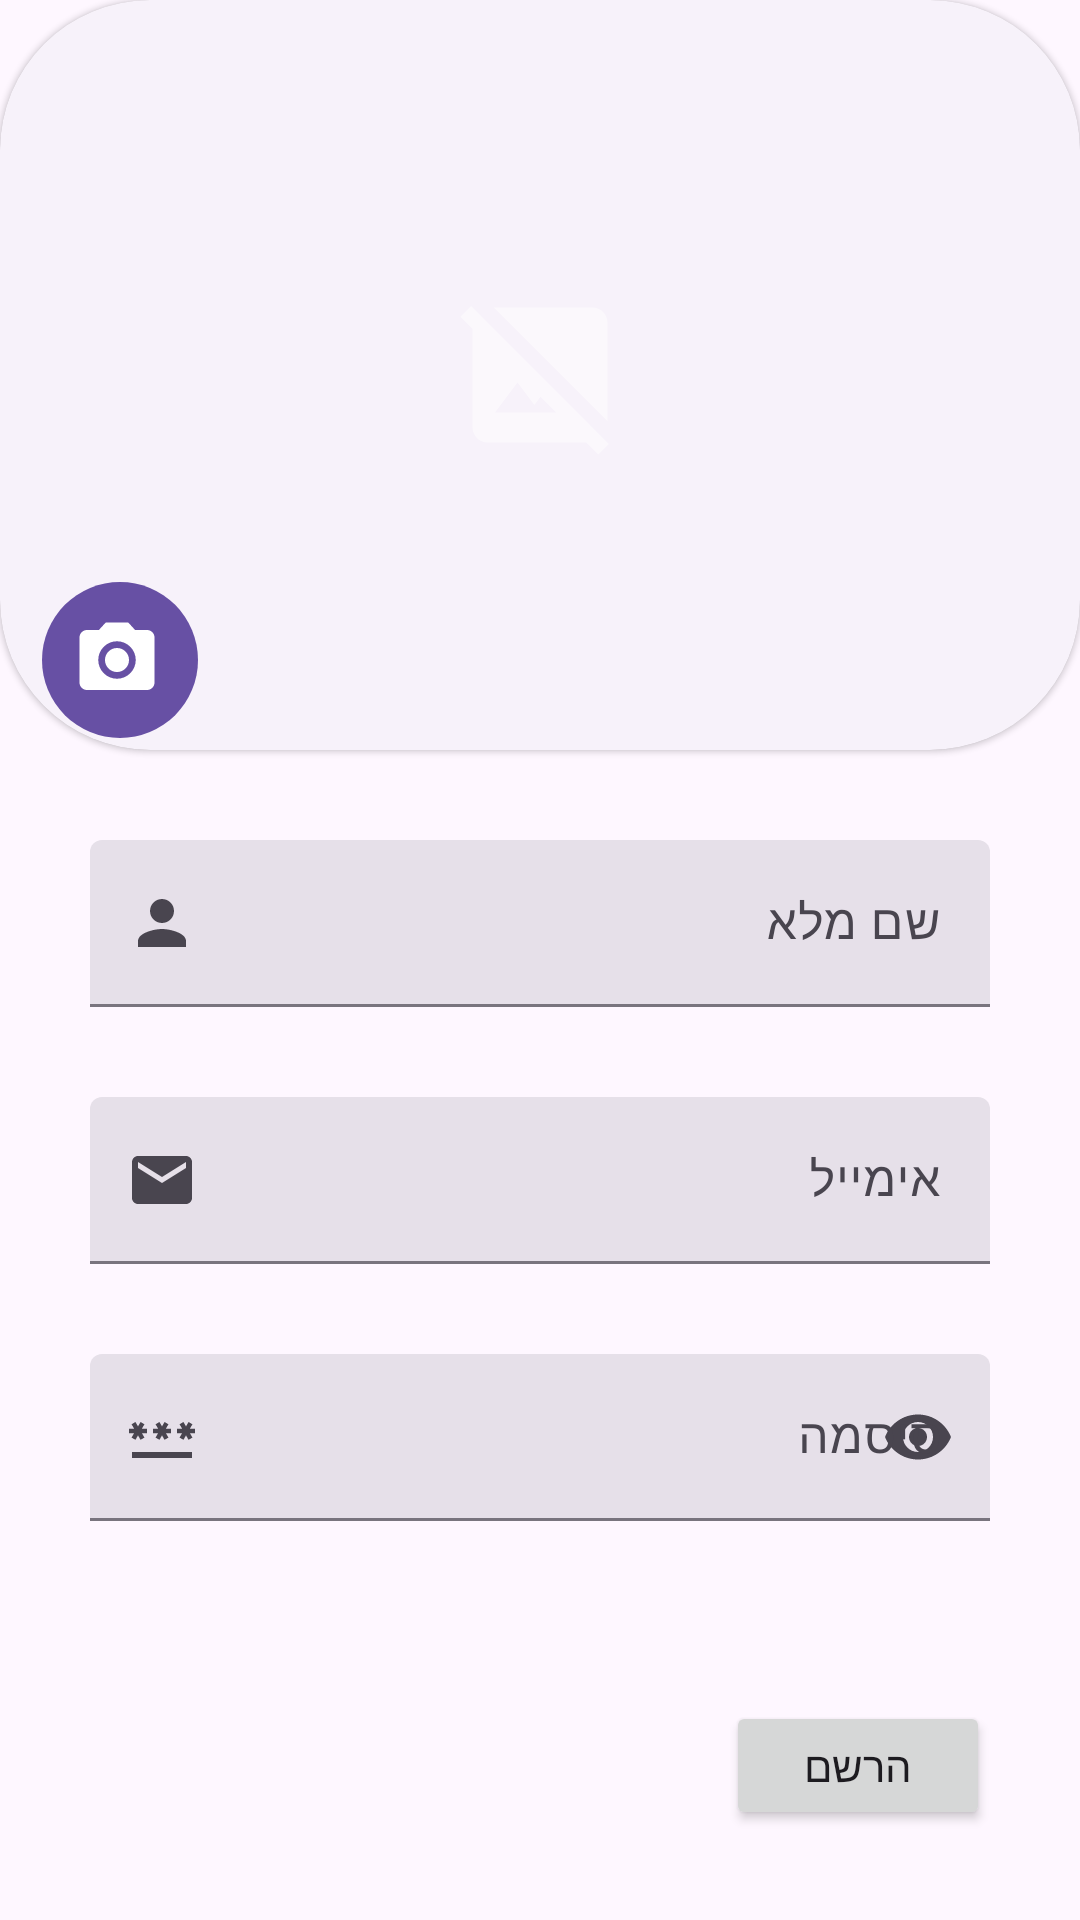

Point at icon controls on the screen. Image size 1080px×1920px, points as [x,y].
camera: [120,660]
